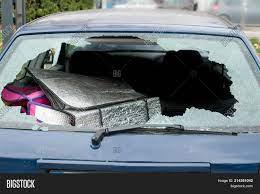Rear-windscreen-Damage: (1, 25, 259, 147)
